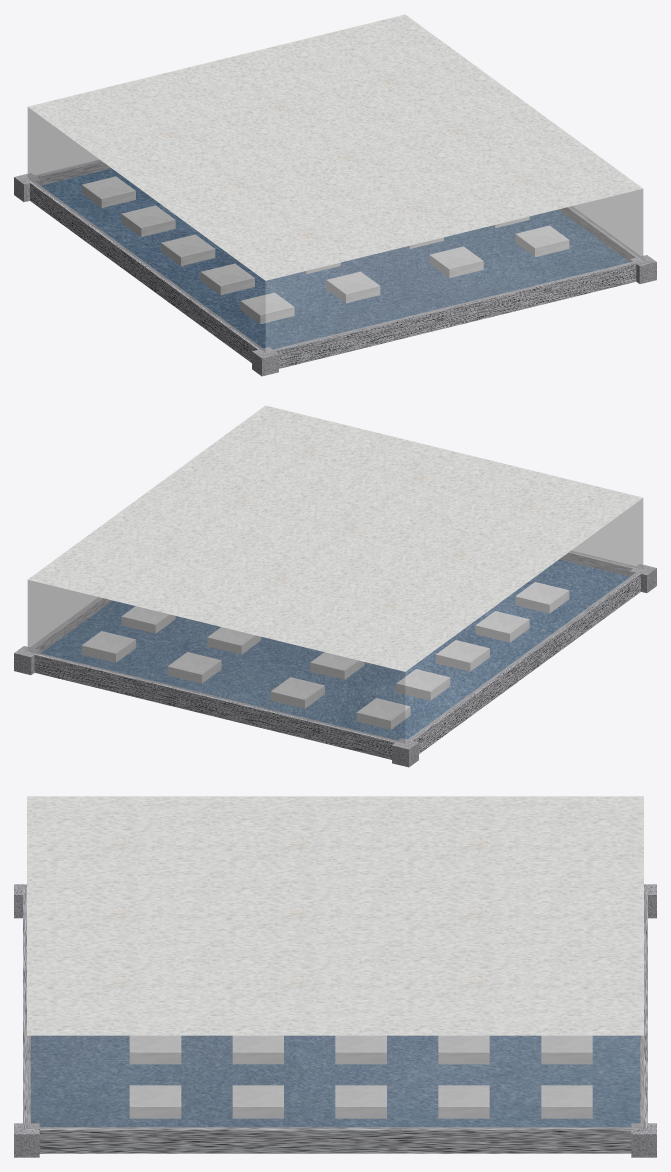
The model's file is show_room.glb.
3 renders of one model, top to bottom at view 1: azimuth 30°, elevation 25°; view 2: azimuth 150°, elevation 25°; view 3: azimuth 270°, elevation 25°, orthographic. The views are drawn at different scales.
Parts seen in each view (by area): view 1: Plane.005, Plane.001, Plane, Plane.003, Cube.021, Cube.023, Plane.002, Plane.004, Cube.001, Cube.003, Cube.002, Cube.004 (+8 smaller); view 2: Plane.005, Plane.002, Plane, Plane.003, Cube.020, Cube.023, Plane.001, Plane.004, Cube.001, Cube.016, Cube, Cube.002 (+11 smaller); view 3: Plane.005, Plane.004, Plane, Cube.022, Cube.015, Cube.016, Cube.017, Cube.018, Cube.019, Cube.014, Cube.010, Cube.011 (+6 smaller).
Part boxes in pixels (box(x1,y1,x2,y2)): Plane.005: box(28, 14, 642, 280); Plane.001: box(265, 189, 643, 352); Plane: box(41, 168, 629, 349); Plane.003: box(28, 107, 265, 352); Cube.021: box(267, 262, 636, 368); Cube.023: box(25, 178, 267, 362); Plane.002: box(28, 107, 100, 177); Plane.004: box(571, 189, 642, 259); Cube.001: box(81, 176, 135, 207); Cube.003: box(161, 234, 215, 265); Cube.002: box(121, 205, 175, 236); Cube.004: box(200, 263, 254, 294); Plane.005: box(28, 405, 642, 671); Plane.002: box(27, 580, 405, 743); Plane: box(41, 559, 629, 740); Plane.003: box(405, 498, 642, 743); Cube.020: box(34, 653, 405, 759); Cube.023: box(404, 569, 645, 753); Plane.001: box(570, 498, 642, 568); Plane.004: box(28, 580, 99, 650); Cube.001: box(356, 698, 410, 729); Cube.016: box(81, 631, 135, 662); Cube: box(515, 582, 569, 613); Cube.002: box(396, 669, 450, 700); Plane.005: box(27, 796, 643, 1035); Plane.004: box(27, 1035, 643, 1128); Plane: box(30, 1035, 640, 1127); Cube.022: box(27, 1127, 643, 1153); Cube.015: box(129, 1085, 181, 1118); Cube.016: box(541, 1085, 592, 1118); Cube.017: box(438, 1085, 489, 1118); Cube.018: box(335, 1085, 386, 1118); Cube.019: box(232, 1085, 283, 1118); Cube.014: box(129, 1035, 181, 1064); Cube.010: box(232, 1035, 283, 1064); Cube.011: box(335, 1035, 386, 1064).
Bounding box in the file's own units: 46 × 10 × 50.
34 materials, 30 textured.
